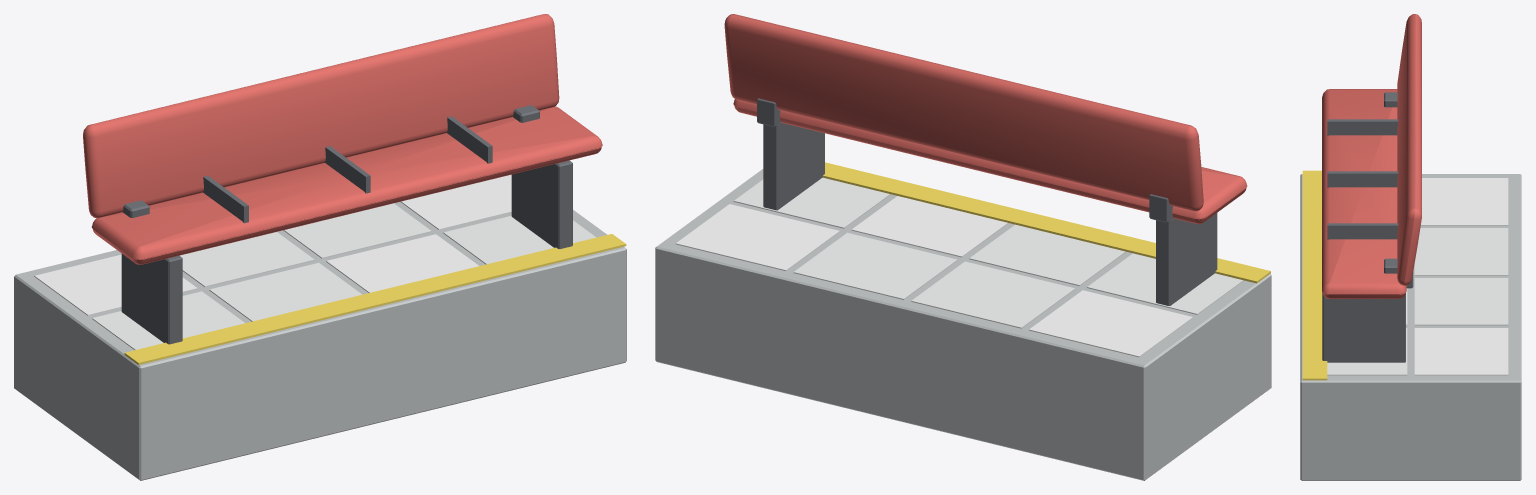
Rendered from public-swimming-baths-and-poolside-viewing-gallery-sea-03b988a7__35280.glb.
3 renders of one model, left to right at view 1: azimuth 30°, elevation 25°; view 2: azimuth 150°, elevation 25°; view 3: azimuth 270°, elevation 25°, orthographic. The views are drawn at different scales.
Parts seen in each view (by area): view 1: viewing-gallery-seating-tier-red; view 2: viewing-gallery-seating-tier-red; view 3: viewing-gallery-seating-tier-red.
Part boxes in pixels (<box>): viewing-gallery-seating-tier-red: <box>14,14,626,480</box>; viewing-gallery-seating-tier-red: <box>655,14,1271,480</box>; viewing-gallery-seating-tier-red: <box>1300,14,1521,480</box>.
Size of the model in its own units: 2 by 1.19 by 0.9.
